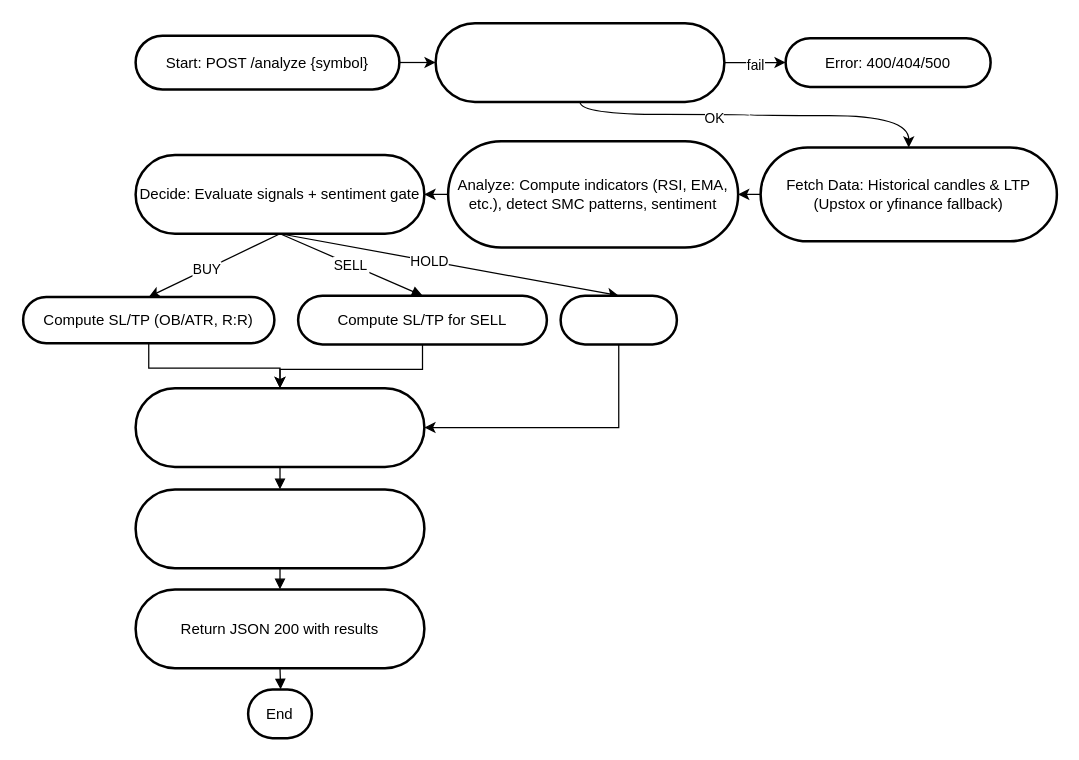
Image size: 1079x760. Some labels were removed from this diagram. Each missing label, with the centre of its shape:
"Calculate pivots (PP, R1, etc.)" belongs at (279,528).
"No action" belongs at (618,319).
"Setup: Validate symbol, load map, auth Upstox" belongs at (579,61).
"Validate R:R; if invalid => HOLD" belongs at (279,427).
